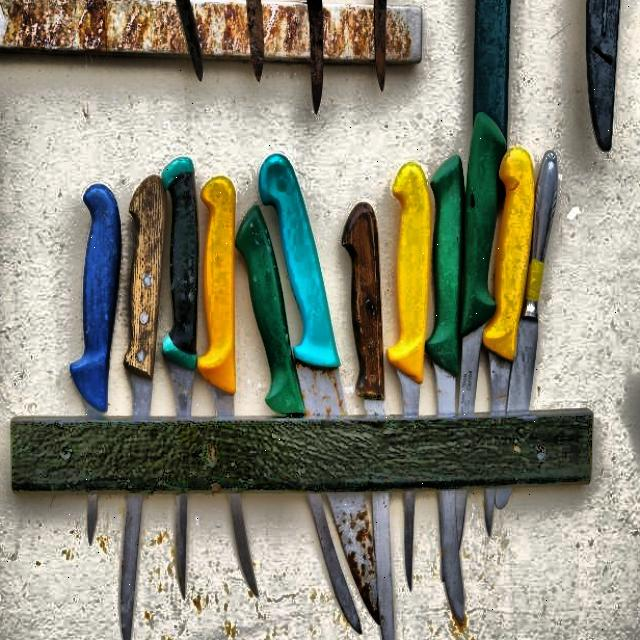knife: (255, 150, 384, 632), (234, 199, 368, 632), (335, 201, 400, 640), (202, 177, 264, 604), (496, 146, 565, 520), (113, 173, 168, 640), (473, 144, 536, 546), (380, 166, 436, 590), (427, 156, 474, 638), (76, 176, 119, 563), (168, 155, 200, 604)
